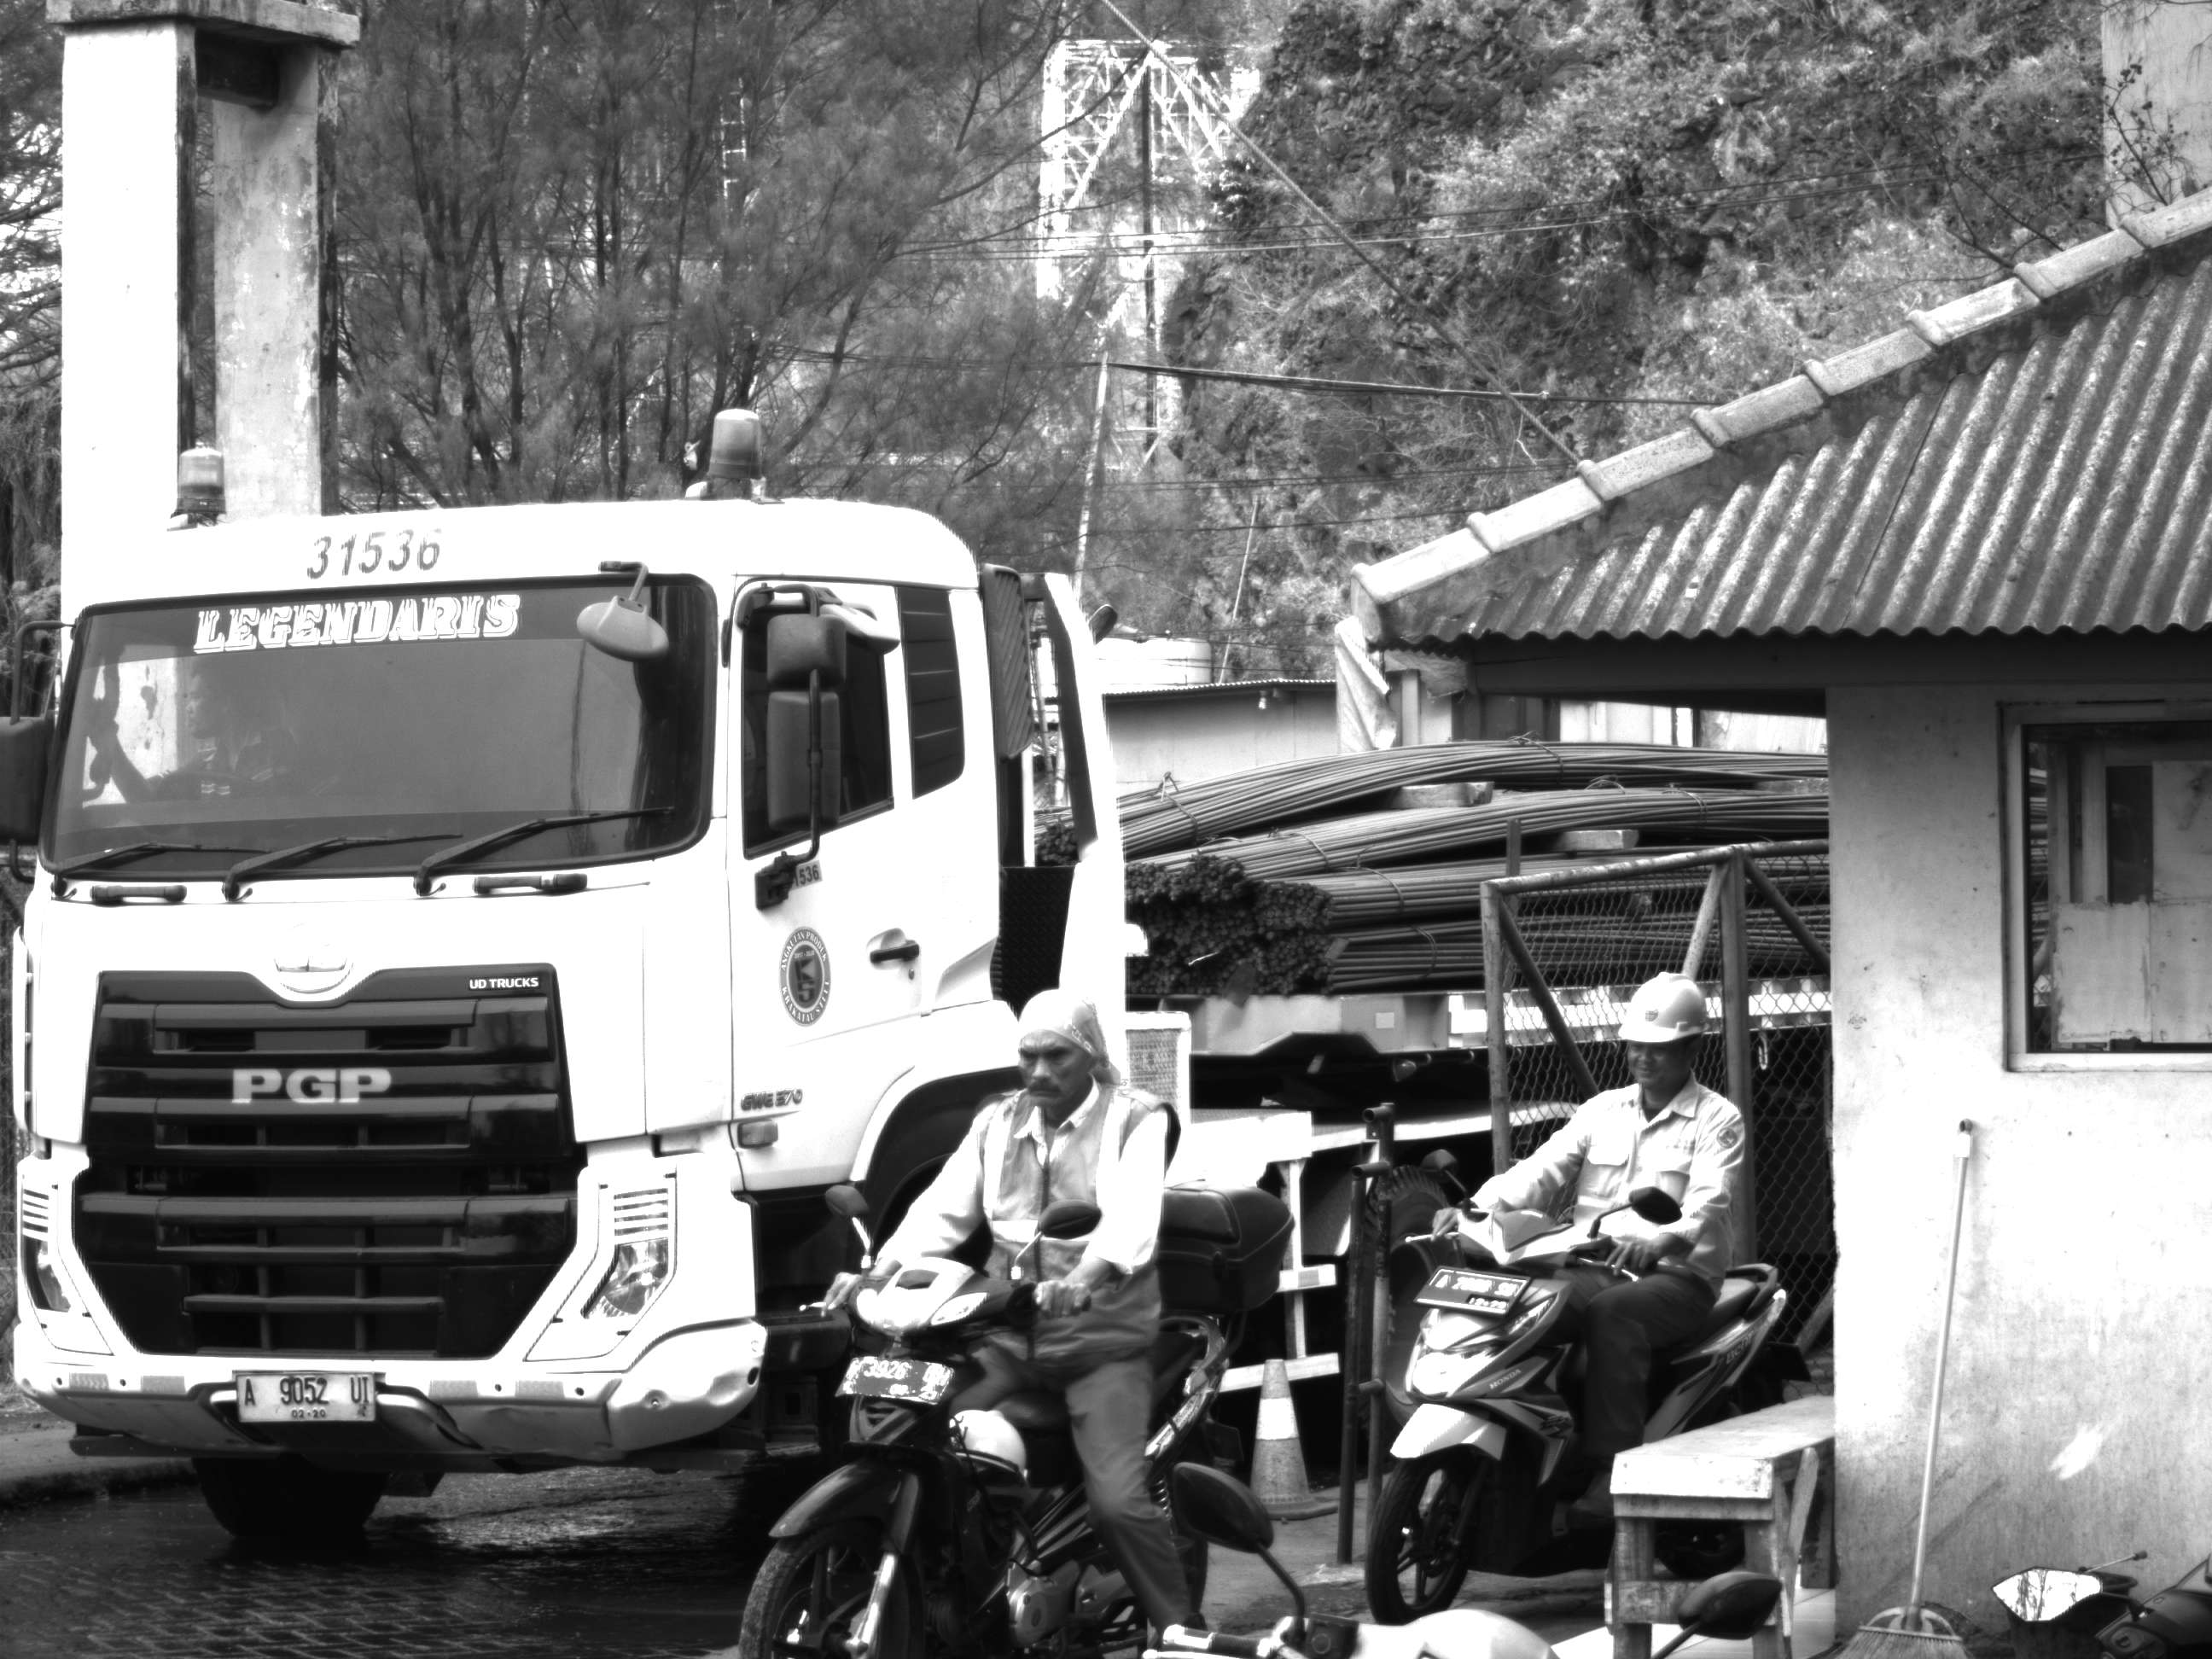day_motorcycle_front: (733, 1173, 1099, 1659), (1362, 1125, 1690, 1635)
day_truck_front: (16, 416, 1278, 1535)
plate: (833, 1344, 972, 1419), (234, 1369, 381, 1433), (1406, 1255, 1541, 1319)
